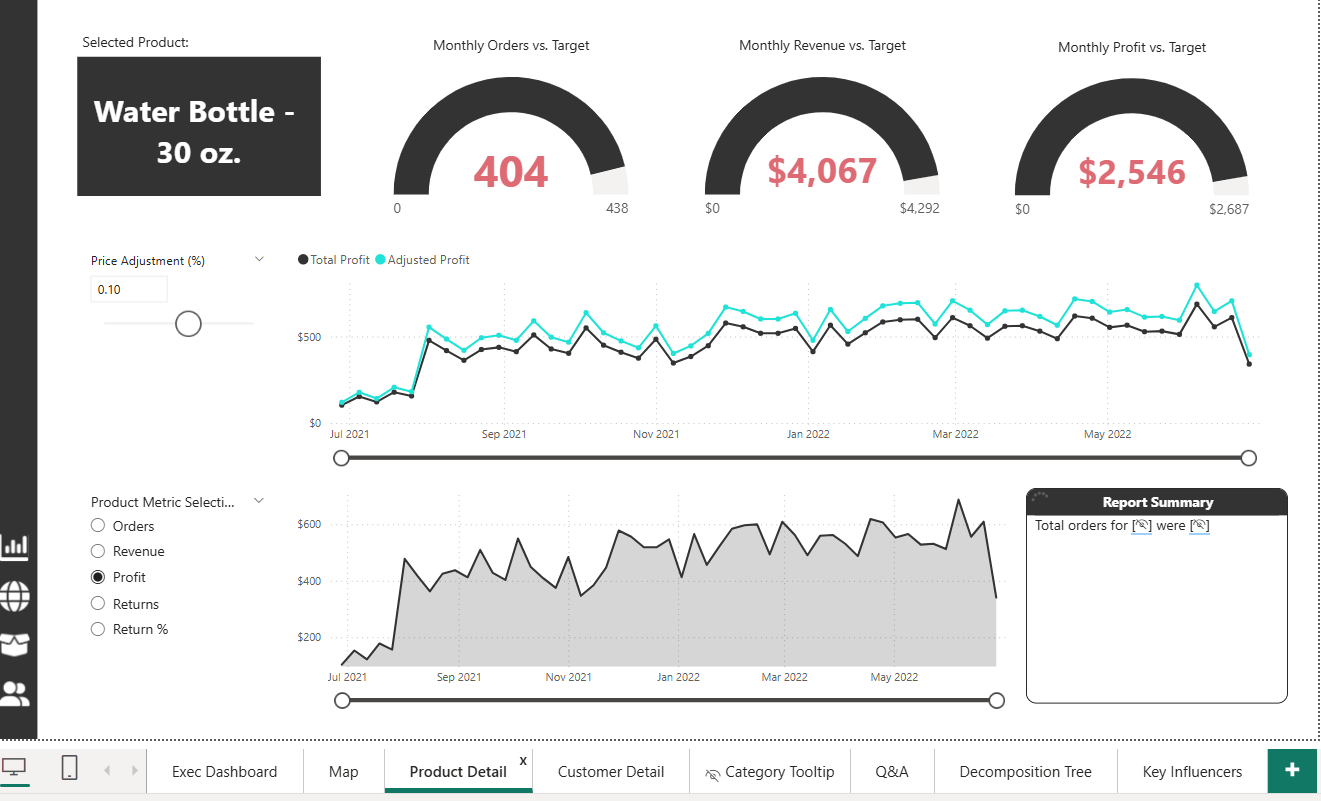

What the dashboard file says about the page in this screenshot:
{"tool":"powerbi","page":{"name":"Product Detail","canvas":[1280,720],"ordinal":2},"visuals":[{"type":"shape","box":[0,0,45,720],"z":0},{"type":"actionButton","box":[2.5,516.7,45.6,37.8],"z":0,"group":"g1"},{"type":"gauge","title":"Monthly Orders vs. Target","fields":{"Y":["Measure Table.Total Orders"],"MaxValue":["Measure Table.Order Target"]},"box":[383.7,41.5,236.9,203.7],"z":1000},{"type":"actionButton","box":[3.3,563.4,45.6,37.8],"z":1000,"group":"g1"},{"type":"gauge","title":"Monthly Revenue vs. Target","fields":{"Y":["Measure Table.Total Revenue"],"MaxValue":["Measure Table.Revenue Target"]},"box":[683.5,41.5,236.9,203.7],"z":2000},{"type":"actionButton","box":[3.3,611.1,45.6,37.8],"z":2000,"group":"g1"},{"type":"gauge","title":"Monthly Profit vs. Target","fields":{"Y":["Measure Table.Total Profit"],"MaxValue":["Measure Table.Profit Target"]},"box":[983.4,41.8,236.2,203.5],"z":3000},{"type":"actionButton","box":[3.3,657.8,45.6,37.8],"z":3000,"group":"g1"},{"type":"lineChart","title":"Profit Trending","fields":{"Category":["Calendar Lookup.Date Hierarchy.Year","Calendar Lookup.Date Hierarchy.Start of Month","Calendar Lookup.Date Hierarchy.Start of Week","Calendar Lookup.Date Hierarchy.Date"],"Y":["Measure Table.Total Profit","Measure Table.Adjusted Profit"]},"box":[290.5,237.4,952.8,221.5],"z":4000},{"type":"areaChart","title":"Return Trending","fields":{"Y":["Measure Table.Total Profit"],"Category":["Calendar Lookup.Date Hierarchy.Year","Calendar Lookup.Date Hierarchy.Start of Month","Calendar Lookup.Date Hierarchy.Start of Week","Calendar Lookup.Date Hierarchy.Date"]},"box":[290.5,471.3,708.7,221.5],"z":5000},{"type":"card","fields":{"Values":["Min(Product Lookup.ProductName)"]},"box":[83.6,61,235.1,134.5],"z":6000},{"type":"textbox","box":[83.6,32.8,136.8,36.2],"z":7000},{"type":"group","id":"g1","title":"Navigation Buttons","box":[2.5,516.7,46.4,178.9],"z":8000},{"type":"slicer","fields":{"Values":["Price Adjustment (%).Price Adjustment (%)"]},"box":[83.6,245.3,193.3,123.2],"z":9000},{"type":"slicer","fields":{"Values":["Product Metric Selection.Product Metric Selection"]},"box":[83.6,477,193.3,180.8],"z":10000},{"type":"textbox","title":"Report Summary","box":[999.2,478.1,253.2,208],"z":11000}]}

Visuals, with their boxes on the page's 1280x720 design canvas (x1, y1, x2, y2). These are canvas units, not pixel positions in the 1321x801 screenshot, which may show the page scaled, cropped or inside an application window:
shape: (left=0, top=0, right=45, bottom=720)
actionButton: (left=2, top=517, right=48, bottom=554)
"Monthly Orders vs. Target" gauge: (left=384, top=42, right=621, bottom=245)
actionButton: (left=3, top=563, right=49, bottom=601)
"Monthly Revenue vs. Target" gauge: (left=684, top=42, right=920, bottom=245)
actionButton: (left=3, top=611, right=49, bottom=649)
"Monthly Profit vs. Target" gauge: (left=983, top=42, right=1220, bottom=245)
actionButton: (left=3, top=658, right=49, bottom=696)
"Profit Trending" lineChart: (left=290, top=237, right=1243, bottom=459)
"Return Trending" areaChart: (left=290, top=471, right=999, bottom=693)
card - Min(Product Lookup.ProductName): (left=84, top=61, right=319, bottom=196)
textbox: (left=84, top=33, right=220, bottom=69)
"Navigation Buttons" group: (left=2, top=517, right=49, bottom=696)
slicer - Price Adjustment (%).Price Adjustment (%): (left=84, top=245, right=277, bottom=368)
slicer - Product Metric Selection.Product Metric Selection: (left=84, top=477, right=277, bottom=658)
"Report Summary" textbox: (left=999, top=478, right=1252, bottom=686)
